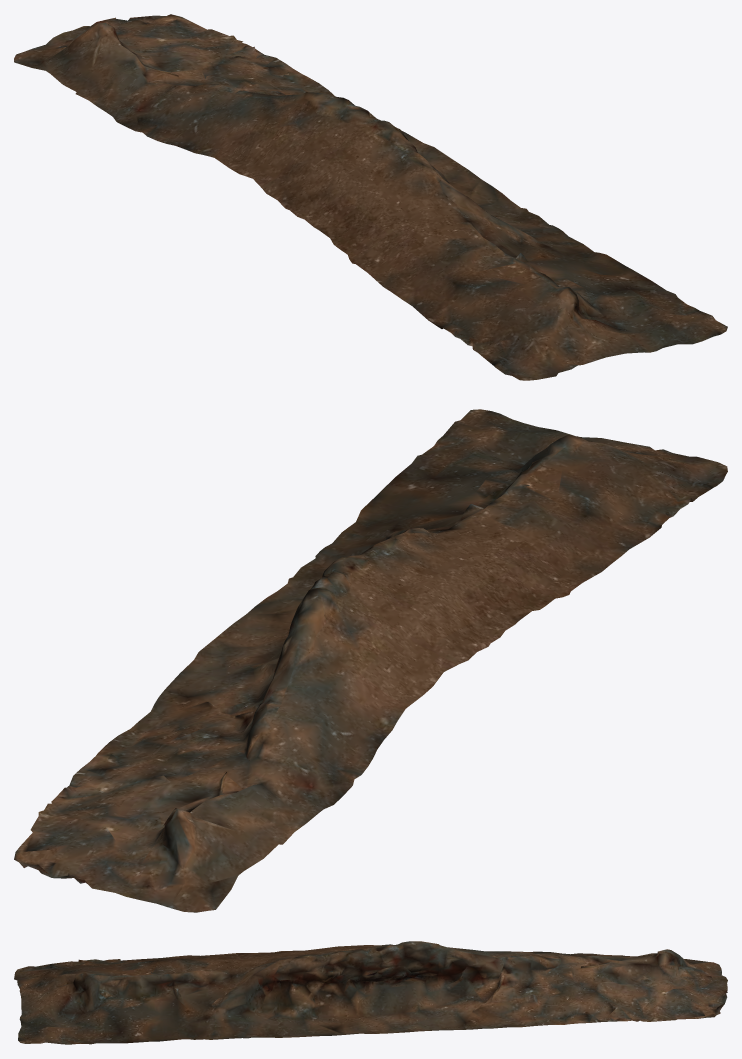
Rendered from single_root.glb.
The picture shows the model from 3 angles, top to bottom: view 1: azimuth 30°, elevation 25°; view 2: azimuth 150°, elevation 25°; view 3: azimuth 270°, elevation 25°; orthographic projection. The views are drawn at different scales.
Parts seen in each view (by area): view 1: single_root; view 2: single_root; view 3: single_root.
Part boxes in pixels (x1,y1,x2,y2): single_root: (14, 14, 727, 380); single_root: (14, 409, 727, 912); single_root: (14, 941, 727, 1044).
Size of the model in its own units: 0.5539 by 0.1755 by 1.84.
1 material, 1 textured.
